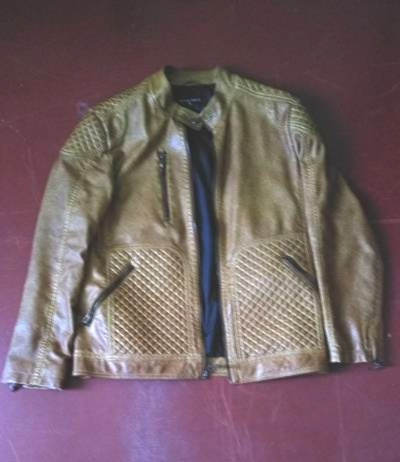Blazer: (19, 47, 392, 400)
